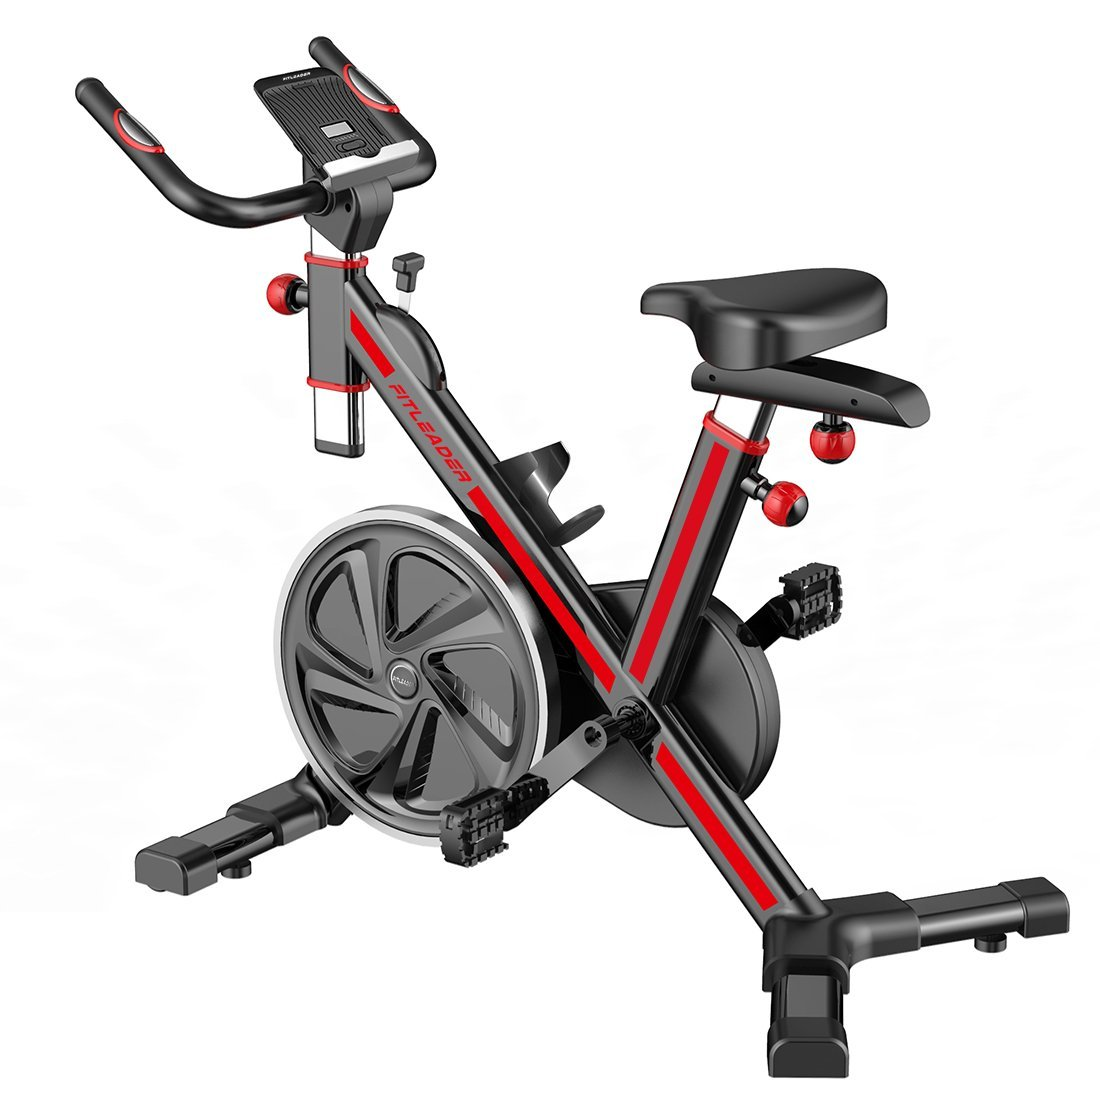gym_bike: (96, 51, 1019, 1041)
